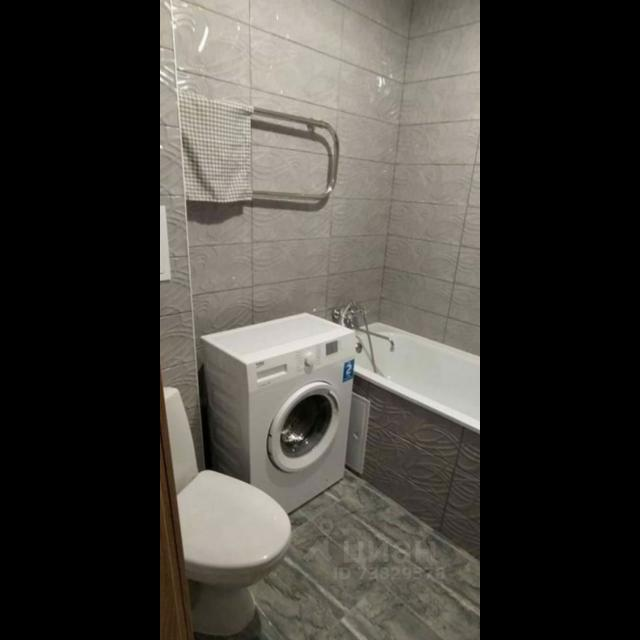Washing-Machine: (199, 314, 355, 512)
